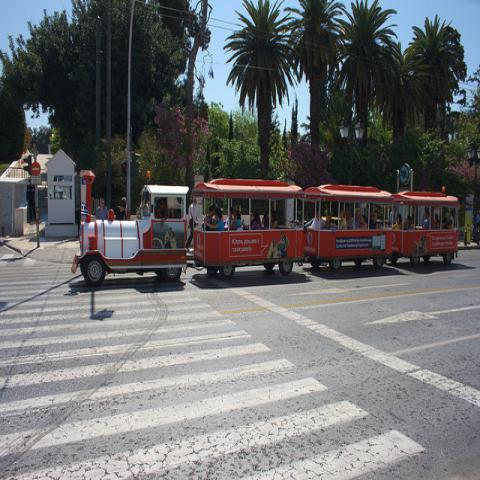bus: (304, 184, 394, 272)
